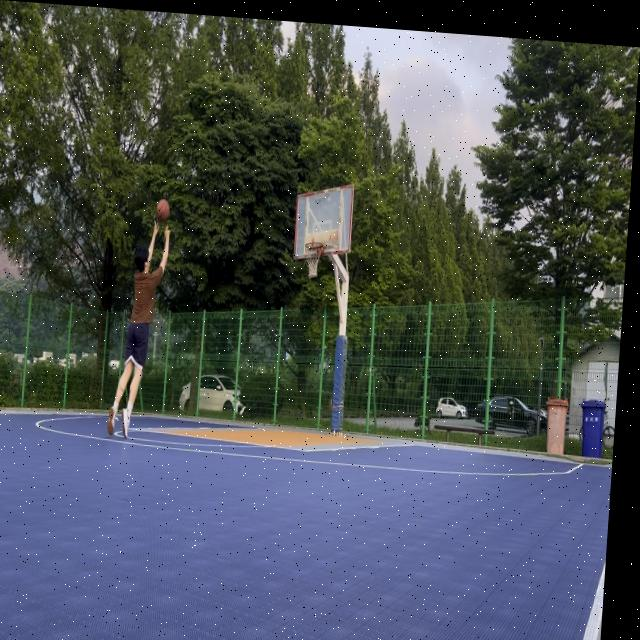basketball: (155, 198, 171, 223)
hoop: (302, 241, 323, 280)
